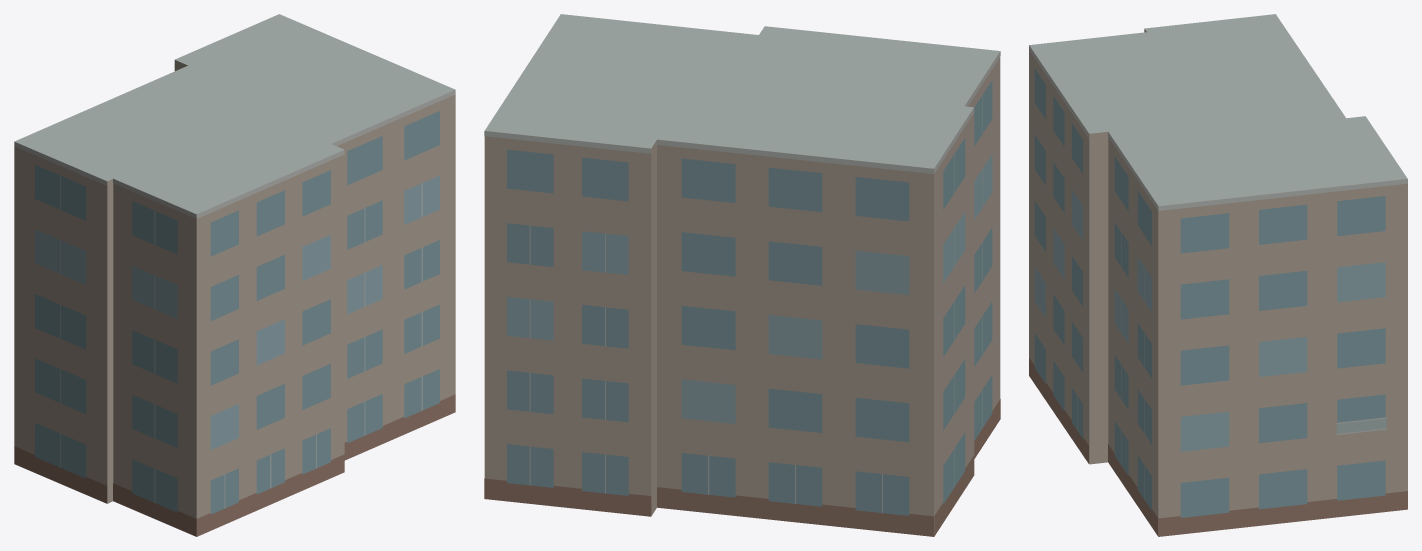
The model's file is survey-upis-32705099.glb.
3 renders of one model, left to right at view 1: azimuth 30°, elevation 25°; view 2: azimuth 150°, elevation 25°; view 3: azimuth 270°, elevation 25°, orthographic. The views are drawn at different scales.
Visible parts, largest first — view 1: survey-upis-32705099.tmp; view 2: survey-upis-32705099.tmp; view 3: survey-upis-32705099.tmp.
Part boxes in pixels (<box>): survey-upis-32705099.tmp: <box>14,14,455,536</box>; survey-upis-32705099.tmp: <box>484,14,1000,536</box>; survey-upis-32705099.tmp: <box>1029,14,1407,536</box>.
Bounding box in the file's own units: 21.08 × 16.9 × 17.55.
